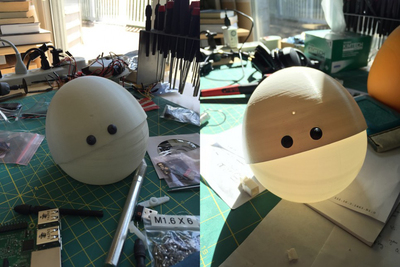mira_robot: (242, 66, 368, 203), (46, 75, 149, 185)
